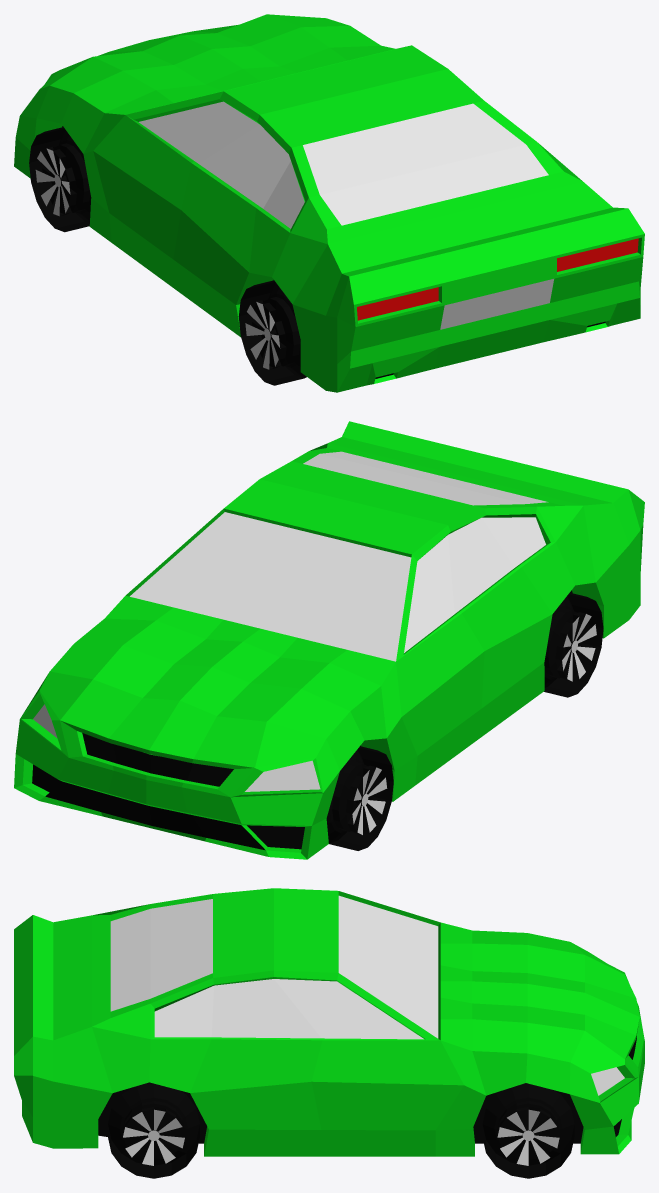
File: auto1.fbx
The picture shows the model from 3 angles, top to bottom: view 1: azimuth 30°, elevation 25°; view 2: azimuth 150°, elevation 25°; view 3: azimuth 270°, elevation 25°; orthographic projection. The views are drawn at different scales.
Parts seen in each view (by area): view 1: Cube, Cube.001; view 2: Cube, Cube.001; view 3: Cube, Cube.001.
Boxes of the visible parts, box(x1,y1,x2,y2) form: Cube: box(14, 14, 644, 392); Cube.001: box(139, 101, 304, 228); Cube: box(14, 421, 644, 859); Cube.001: box(130, 512, 545, 661); Cube: box(14, 888, 644, 1178); Cube.001: box(154, 895, 438, 1039).
Size of the model in its own units: 229 by 139 by 439.
